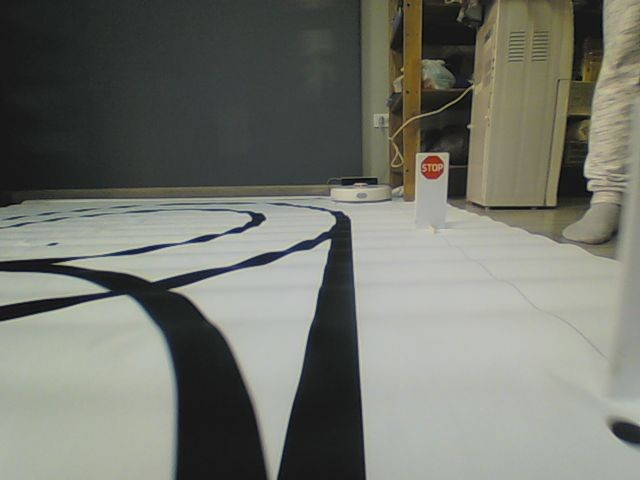Stop: (419, 154, 445, 181)
